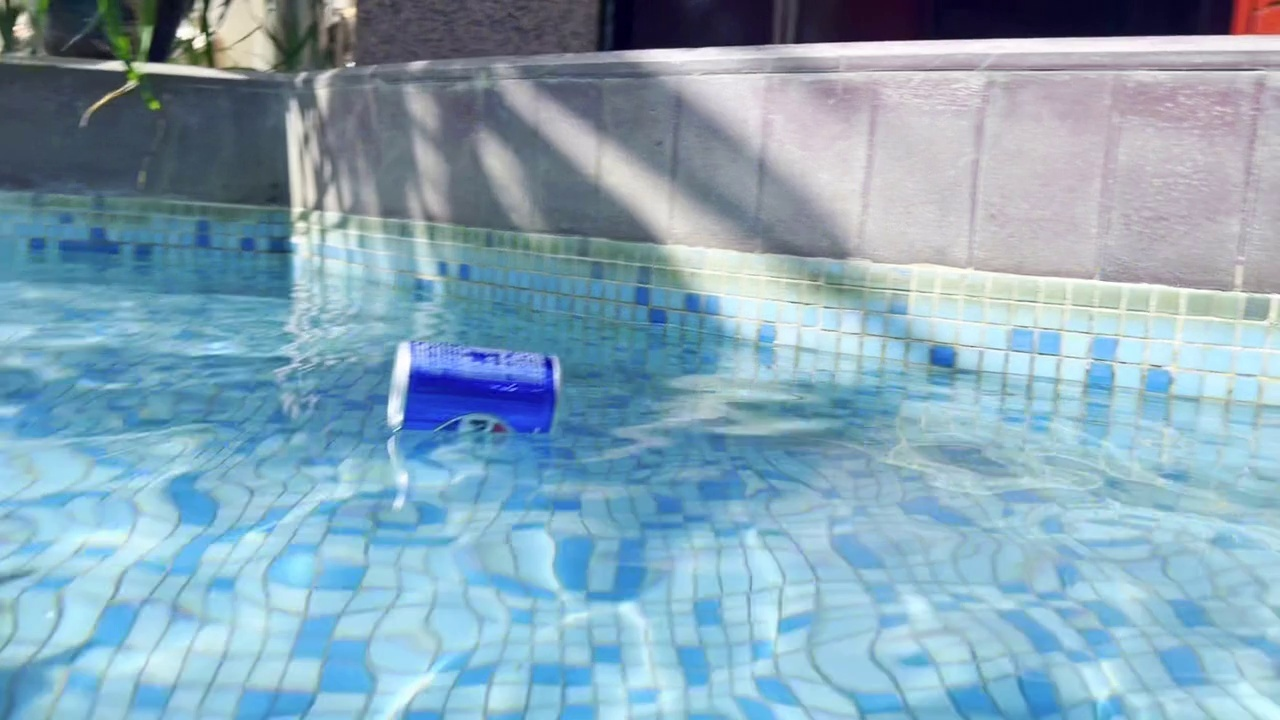debris: (387, 324, 566, 451)
